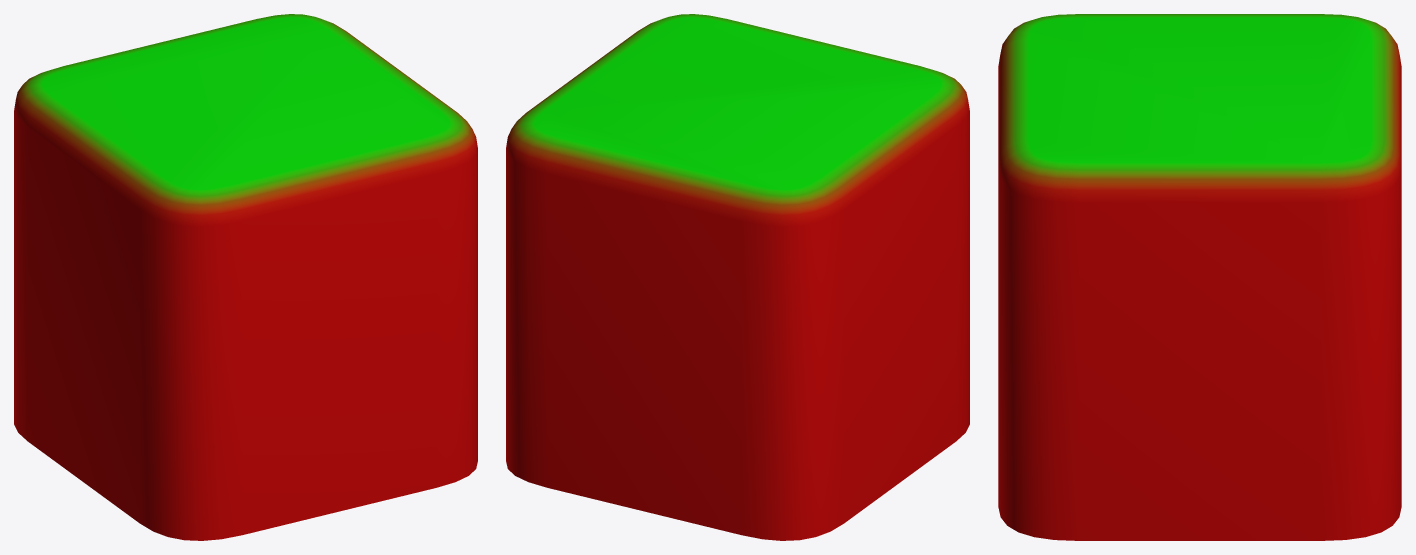
The picture shows the model from 3 angles, left to right: view 1: azimuth 30°, elevation 25°; view 2: azimuth 150°, elevation 25°; view 3: azimuth 270°, elevation 25°; orthographic projection. The views are drawn at different scales.
Visible parts, largest first — view 1: Grid; view 2: Grid; view 3: Grid.
Boxes of the visible parts, left/top/right/bottom form: Grid: left=14, top=14, right=477, bottom=540; Grid: left=506, top=14, right=969, bottom=540; Grid: left=998, top=14, right=1401, bottom=540.
Size of the model in its own units: 100 by 100 by 100.
